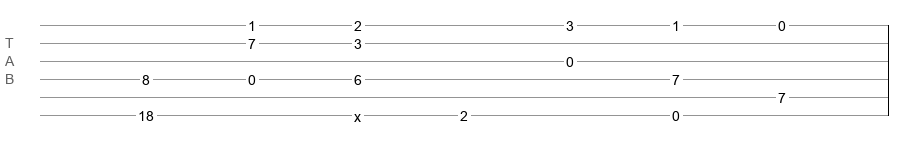0: (248, 72, 256, 82), (566, 54, 574, 64), (672, 108, 680, 118), (778, 18, 786, 28)
1: (248, 18, 256, 28), (672, 18, 680, 28)
18: (138, 108, 154, 118)
2: (354, 18, 362, 28), (460, 108, 468, 118)
3: (354, 36, 362, 46), (566, 18, 574, 28)
6: (354, 72, 362, 82)
7: (248, 36, 256, 46), (672, 72, 680, 82), (778, 90, 786, 100)
8: (142, 72, 150, 82)
x: (354, 109, 361, 117)
